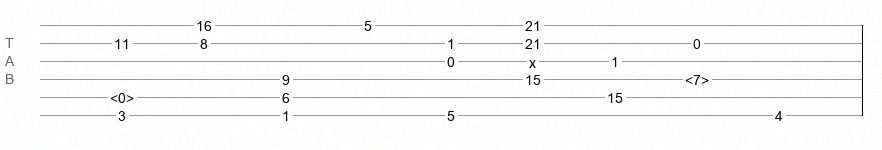0: (447, 54, 455, 64), (693, 36, 701, 46)
1: (282, 108, 290, 118), (447, 36, 455, 46), (611, 54, 619, 64)
11: (114, 36, 130, 46)
15: (525, 72, 541, 82), (607, 90, 623, 100)
16: (196, 18, 212, 28)
21: (525, 36, 541, 46), (525, 18, 541, 28)
3: (118, 108, 126, 118)
4: (775, 108, 783, 118)
5: (364, 18, 372, 28), (447, 108, 455, 118)
6: (282, 90, 290, 100)
8: (200, 36, 208, 46)
9: (282, 72, 290, 82)
harmonic: (110, 90, 134, 100), (685, 72, 709, 82)
x: (529, 55, 536, 63)
